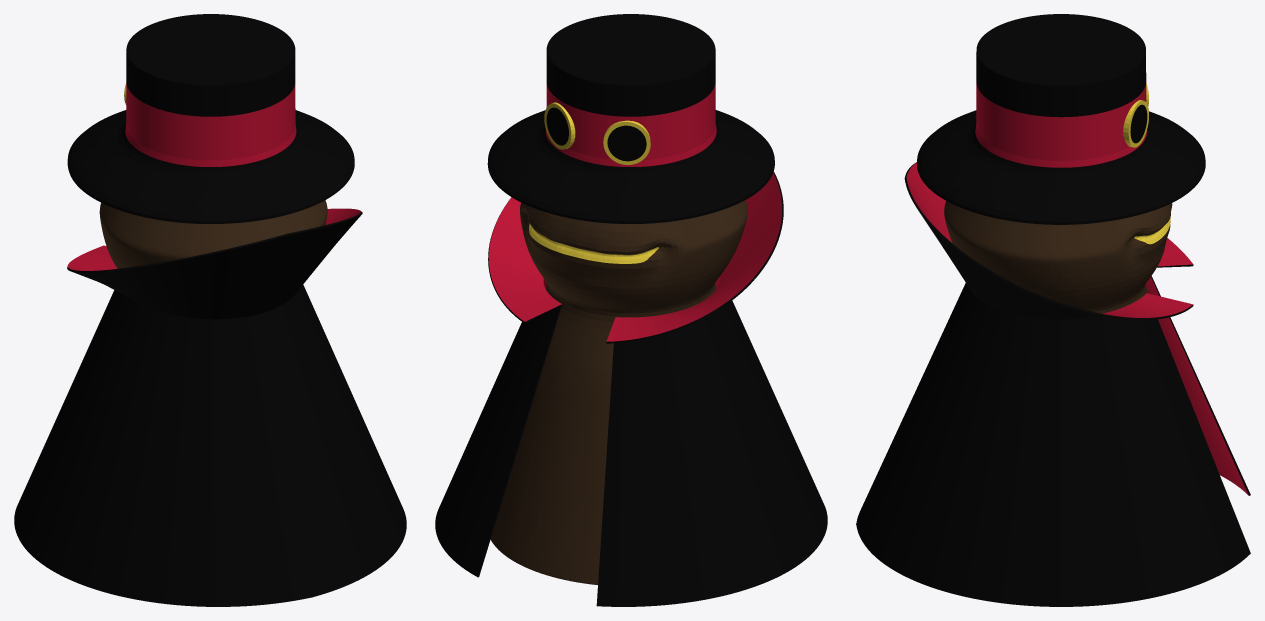
File: maguito_p2.glb
3 views of the same model, side by side, from view 1: azimuth 30°, elevation 25°; view 2: azimuth 150°, elevation 25°; view 3: azimuth 270°, elevation 25° (orthographic).
Visible parts, largest first — view 1: Maguito explosivo; view 2: Maguito explosivo; view 3: Maguito explosivo.
Part boxes in pixels (x1,y1,x2,y2): Maguito explosivo: (14,14,406,606); Maguito explosivo: (435,14,827,606); Maguito explosivo: (856,14,1250,606).
Size of the model in its own units: 2.43 by 3.28 by 2.45.
